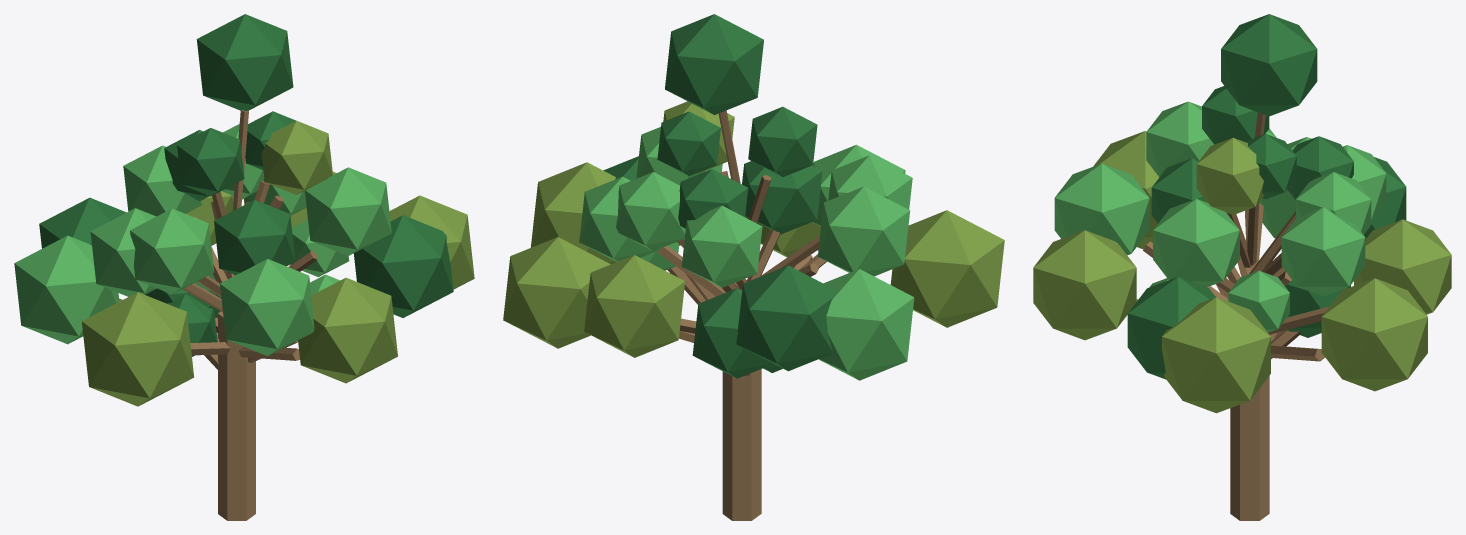
Rendered from Tree_15.glb.
3 renders of one model, left to right at view 1: azimuth 30°, elevation 25°; view 2: azimuth 150°, elevation 25°; view 3: azimuth 270°, elevation 25°, orthographic. The views are drawn at different scales.
Visible parts, largest first — view 1: T15_Sphere_07, T15_Sphere_08, T15_Sphere_11, T15_Sphere_03, T15_Sphere_12, T15_Sphere_13, T15_Trunk, T15_Sphere_18, T15_Sphere_20, T15_Sphere_17, T15_Sphere_23, T15_Sphere_22 (+14 smaller); view 2: T15_Sphere_07, T15_Sphere_10, T15_Sphere_05, T15_Sphere_06, T15_Sphere_11, T15_Sphere_03, T15_Sphere_16, T15_Trunk, T15_Sphere_15, T15_Sphere_09, T15_Sphere_19, T15_Sphere_17 (+13 smaller); view 3: T15_Sphere_09, T15_Sphere_05, T15_Sphere_08, T15_Sphere_03, T15_Sphere_12, T15_Sphere_18, T15_Sphere_10, T15_Sphere_14, T15_Trunk, T15_Sphere_13, T15_Sphere_23, T15_Sphere_20 (+15 smaller).
Boxes of the visible parts, x1,y1,x2,y2 form: T15_Sphere_07: (81,292,194,406); T15_Sphere_08: (298,277,397,383); T15_Sphere_11: (14,235,119,344); T15_Sphere_03: (196,14,293,110); T15_Sphere_12: (220,259,314,355); T15_Sphere_13: (353,215,453,317); T15_Trunk: (218,311,255,520); T15_Sphere_18: (305,167,391,255); T15_Sphere_20: (130,208,214,294); T15_Sphere_17: (214,200,295,274); T15_Sphere_23: (261,120,332,194); T15_Sphere_22: (177,128,244,196); T15_Sphere_07: (890,210,1004,327); T15_Sphere_10: (584,255,685,357); T15_Sphere_05: (503,237,610,348); T15_Sphere_06: (736,265,835,371); T15_Sphere_11: (818,269,914,380); T15_Sphere_03: (665,14,763,114); T15_Sphere_16: (817,186,910,276); T15_Trunk: (722,369,761,520); T15_Sphere_15: (681,205,762,287); T15_Sphere_09: (530,162,616,264); T15_Sphere_19: (616,172,685,251); T15_Sphere_17: (742,161,822,234); T15_Sphere_09: (1162,297,1270,413); T15_Sphere_05: (1321,278,1427,391); T15_Sphere_08: (1033,230,1136,340); T15_Sphere_03: (1221,14,1317,116); T15_Sphere_12: (1054,163,1149,255); T15_Sphere_18: (1153,199,1239,287); T15_Sphere_10: (1354,219,1451,314); T15_Sphere_14: (1281,207,1365,296); T15_Trunk: (1230,376,1269,520); T15_Sphere_13: (1127,277,1215,379); T15_Sphere_23: (1196,137,1263,214); T15_Sphere_20: (1146,101,1213,176).
Size of the model in its own units: 3.01 by 3.41 by 2.54.
